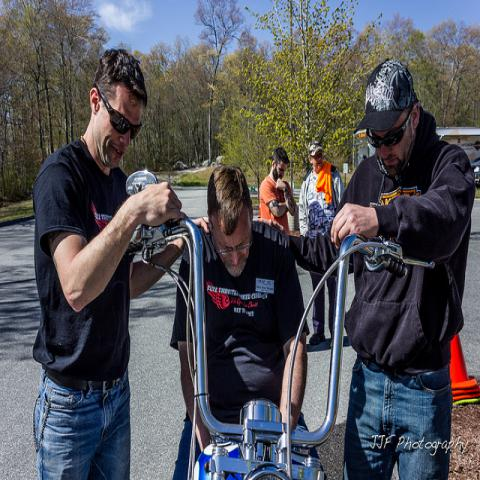bus: (352, 126, 480, 184)
motorcycle: (127, 172, 444, 479)
